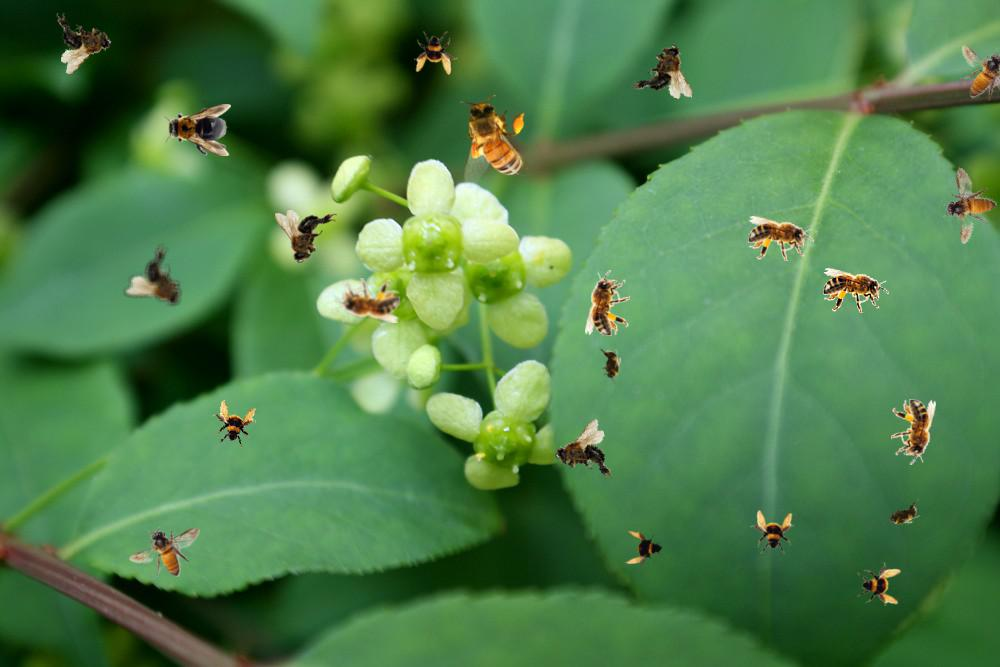Bee: (121, 241, 202, 323), (460, 95, 528, 188), (933, 166, 1000, 251), (548, 418, 617, 492), (946, 30, 1000, 117), (53, 4, 116, 76), (630, 39, 699, 101), (129, 527, 200, 577), (163, 104, 231, 156), (275, 210, 337, 263), (585, 270, 630, 336), (891, 399, 936, 465), (748, 216, 814, 261), (334, 278, 400, 323), (823, 268, 889, 313), (207, 398, 259, 450), (414, 31, 458, 75), (750, 510, 794, 554), (857, 562, 901, 606), (624, 528, 668, 572), (880, 498, 926, 532), (599, 344, 623, 386)
